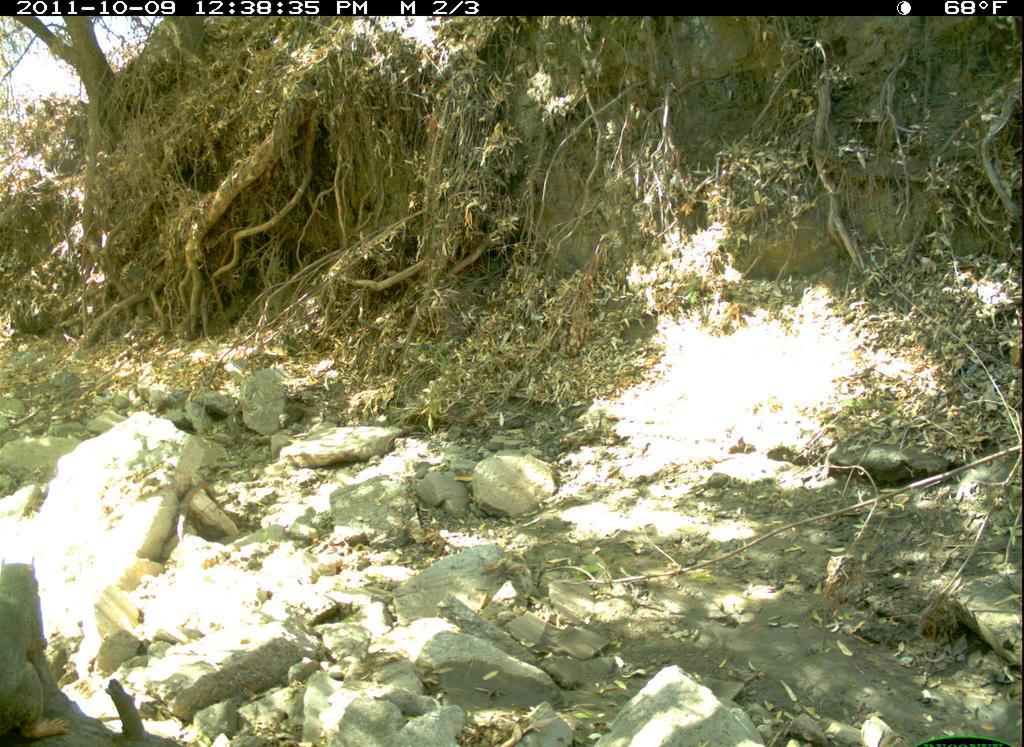squirrel: (3, 548, 77, 747)
